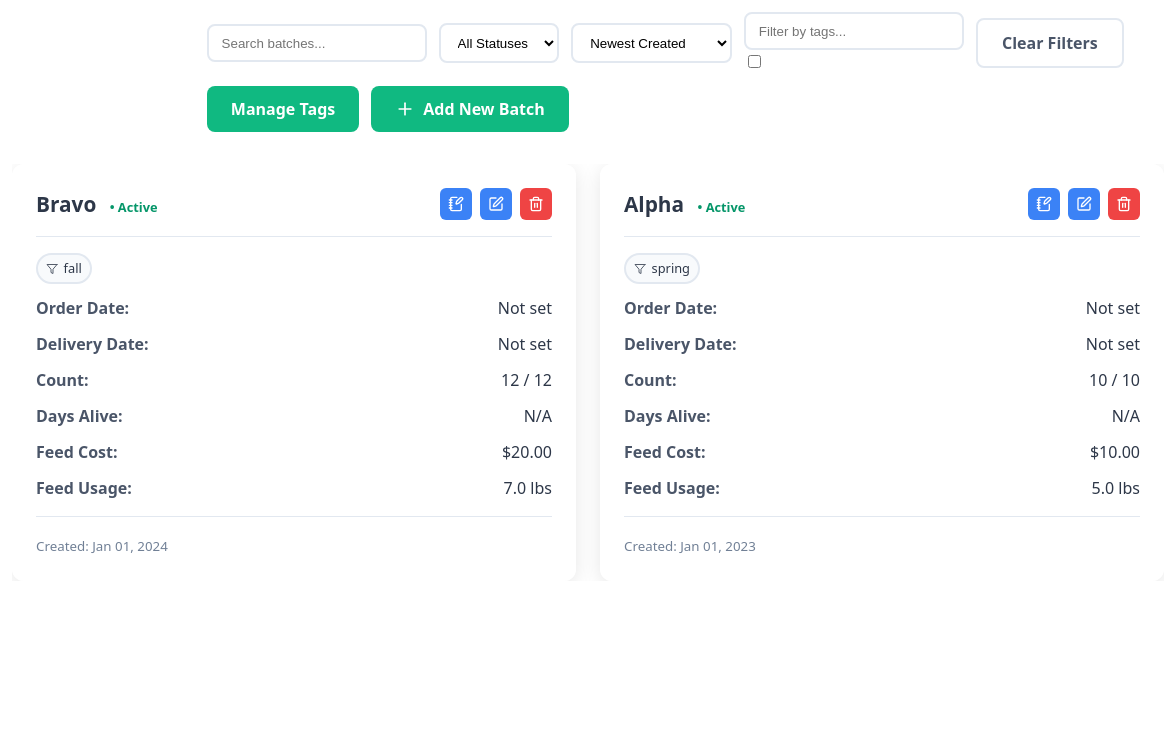
Test: ChickenList filtering and tag chips › clears filters and supports sorting modes
Expected: the heading "Alpha • Active" is shown, x1=624 y1=189 x2=745 y2=220
Expected: the heading "Bravo • Active" is shown, x1=36 y1=189 x2=158 y2=220
Sort by name ascending
Select "Name (A→Z)" in the 2nd dropdown showing "Newest Created" at (652, 43), box x1=571 y1=23 x2=732 y2=63
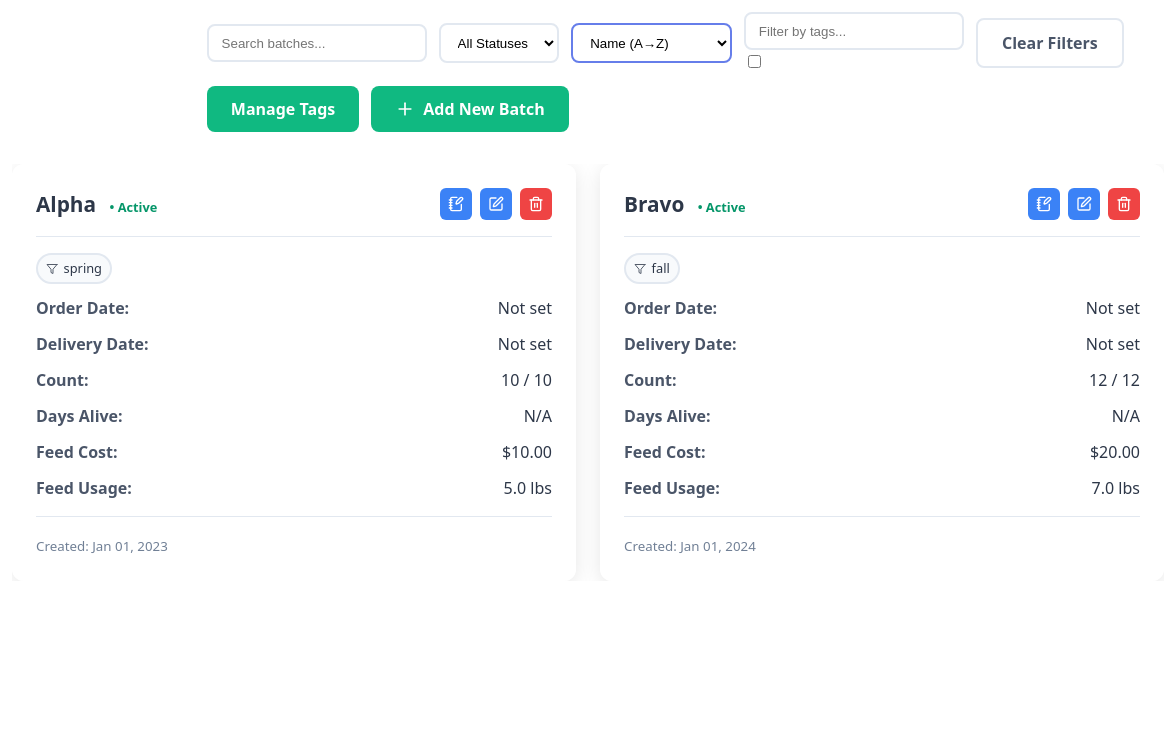
Expected: the heading "Alpha • Active" is shown, x1=36 y1=189 x2=157 y2=220
Sort by latest delivery (no delivery dates in seed, just ensure control works)
Select "Latest Delivery" in the 2nd dropdown showing "Name" at (652, 43), box x1=571 y1=23 x2=732 y2=63
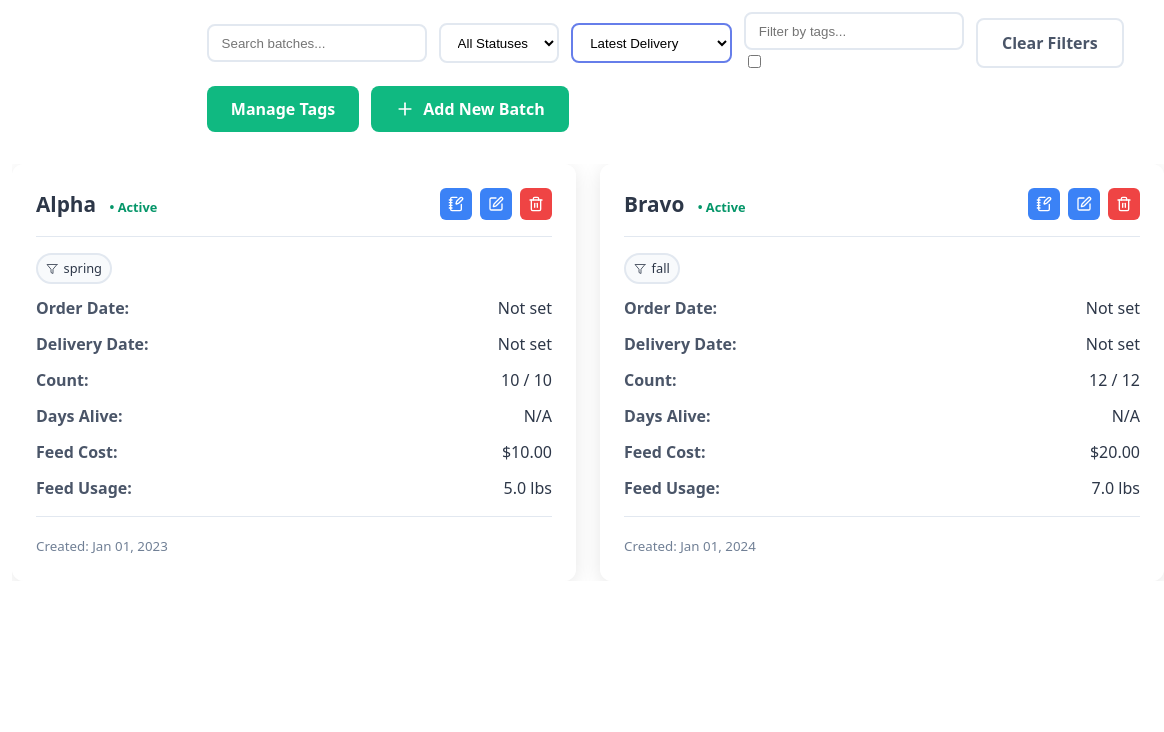
Expected: the heading "Alpha • Active" is shown, x1=36 y1=189 x2=157 y2=220
Sort by highest feed cost
Select "Highest Feed Cost" in the 2nd dropdown showing "Latest Delivery" at (652, 43), box x1=571 y1=23 x2=732 y2=63
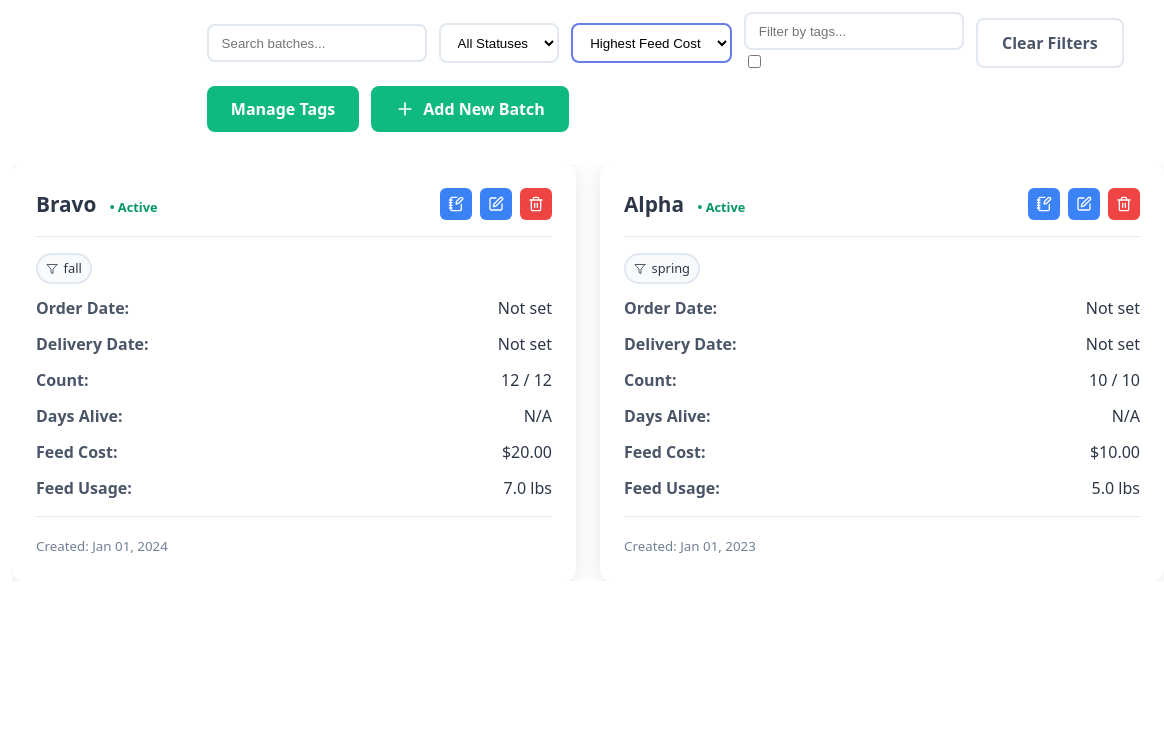
Expected: the heading "Bravo • Active" is shown, x1=36 y1=189 x2=158 y2=220
Apply a search then clear filters button
Type "Alpha" into the field with placeholder "Search batches..." at (317, 43), box x1=207 y1=24 x2=427 y2=62
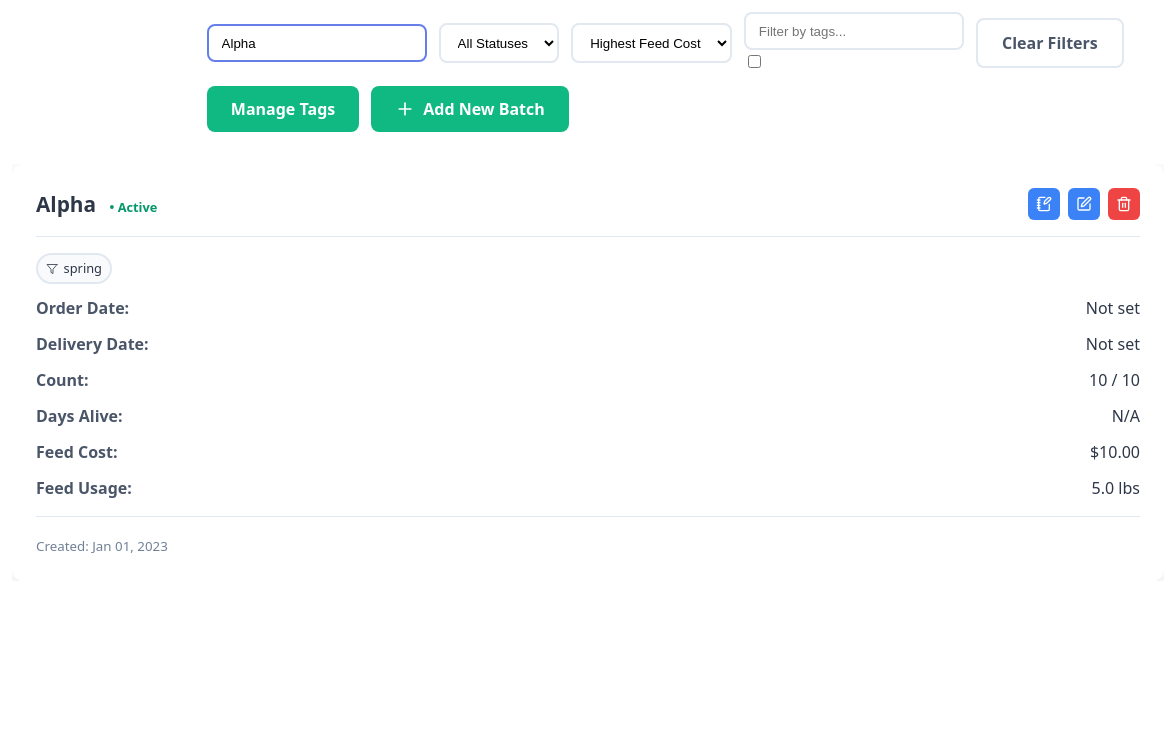
Expected: the heading "Alpha • Active" is shown, x1=36 y1=189 x2=157 y2=220
Result: the heading "Bravo" is gone
Click the button "Clear Filters" at (1050, 43), box x1=976 y1=18 x2=1124 y2=68
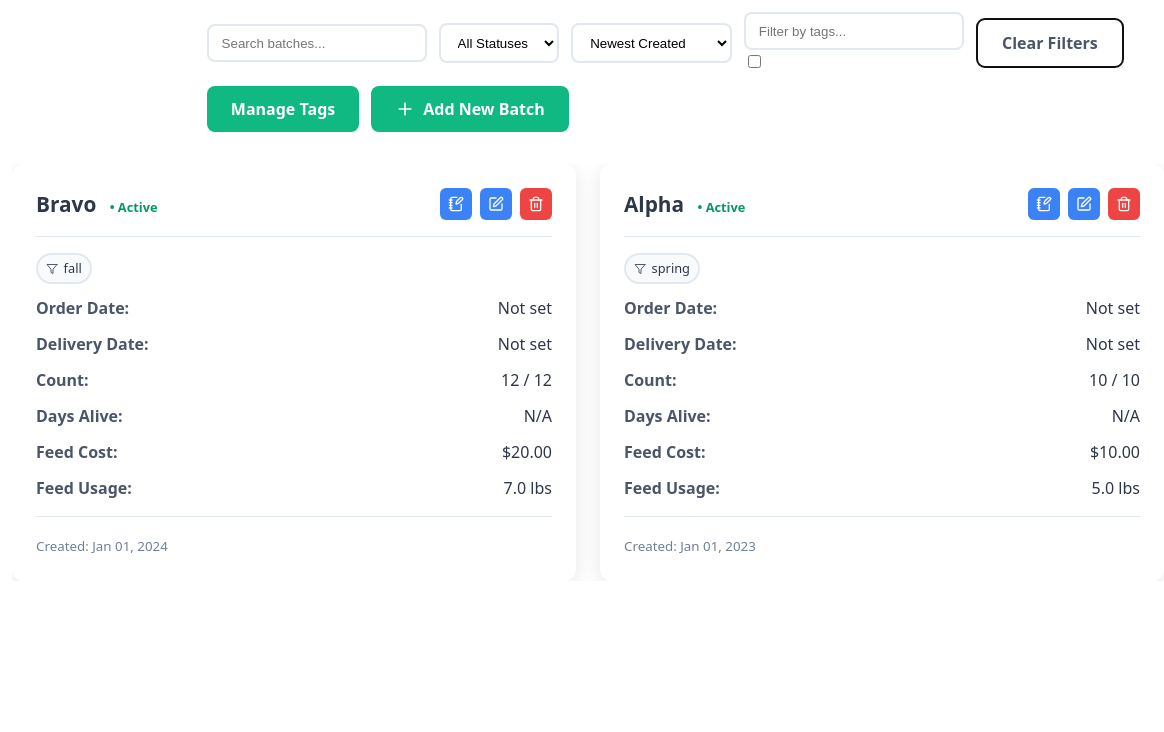
Result: the heading "Bravo • Active" is shown at x1=36 y1=189 x2=158 y2=220
